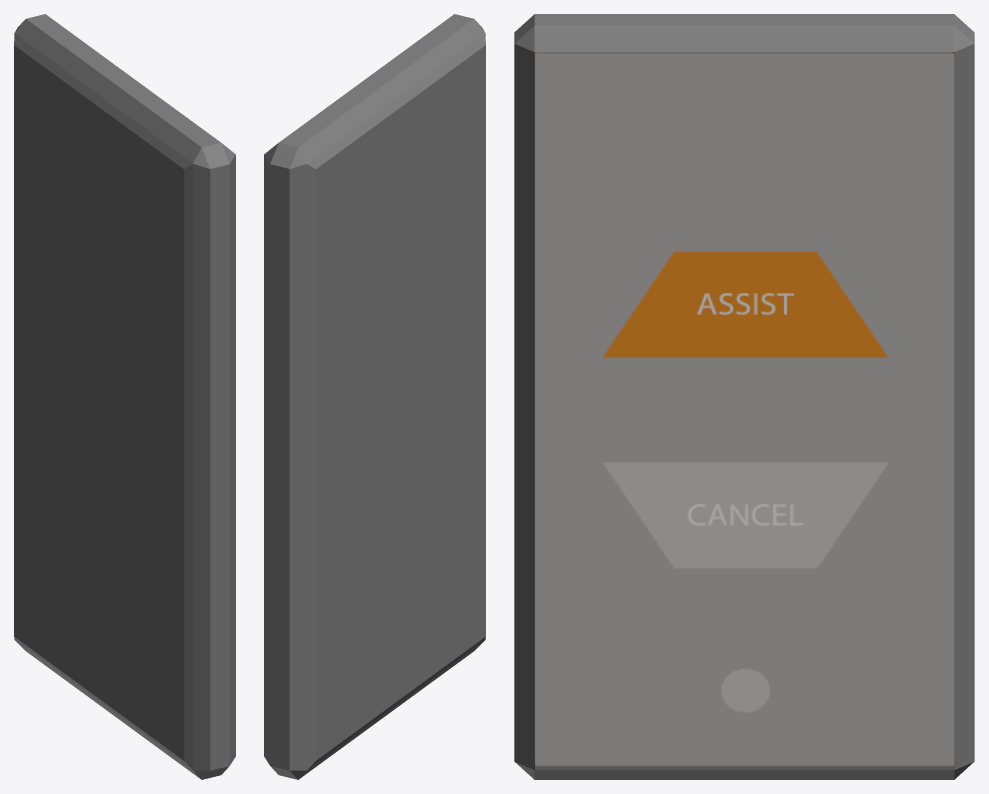
File: Assist Button.fbx
The picture shows the model from 3 angles, left to right: view 1: azimuth 30°, elevation 25°; view 2: azimuth 150°, elevation 25°; view 3: azimuth 270°, elevation 25°; orthographic projection. The views are drawn at different scales.
Parts seen in each view (by area): view 1: Cube; view 2: Cube; view 3: Cube.
Part boxes in pixels (<box>): Cube: <box>14,14,235,779</box>; Cube: <box>264,14,485,779</box>; Cube: <box>514,14,974,779</box>.
Size of the model in its own units: 1.4 by 17.29 by 9.55.
1 material, 1 textured.
